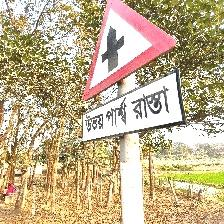Crossroad: (80, 0, 191, 141)
